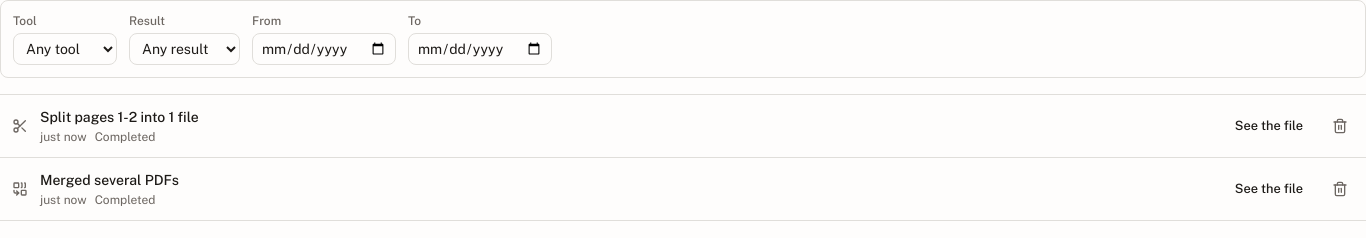
Test: HistoryList › promises the files survive when removing an entry
The width and height of the screenshot is (1366, 238).
Expected: the text "Split pages 1-2 into 1 file" is shown, [40,109,199,125]
Hover over the button named "Remove this" at [1340, 126], box [1326,112,1354,140]
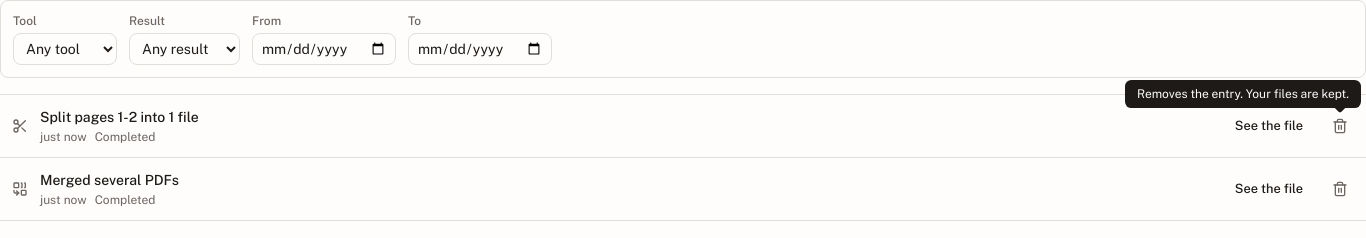
Expected: the text "Removes the entry. Your files are kept." is shown, [1125,80,1361,108]
